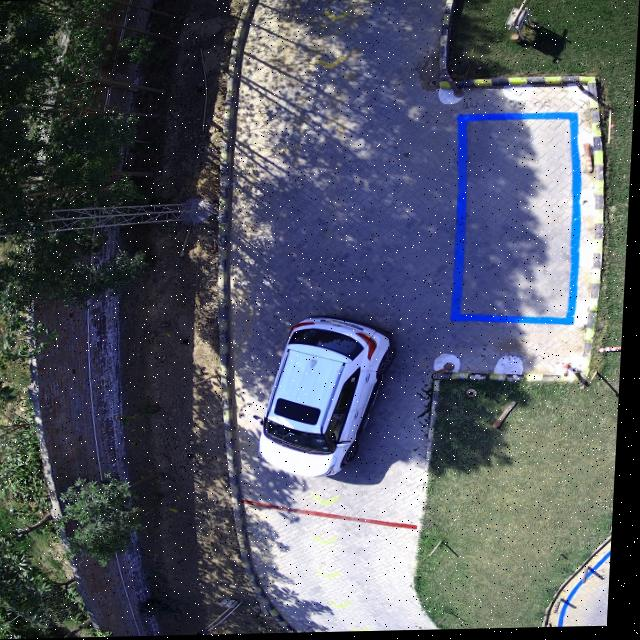car: (265, 316, 397, 478)
